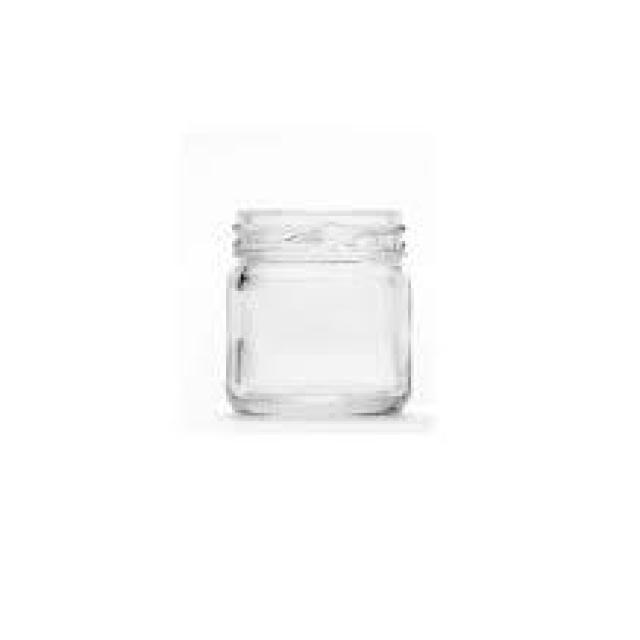Glass: (223, 205, 417, 424)
